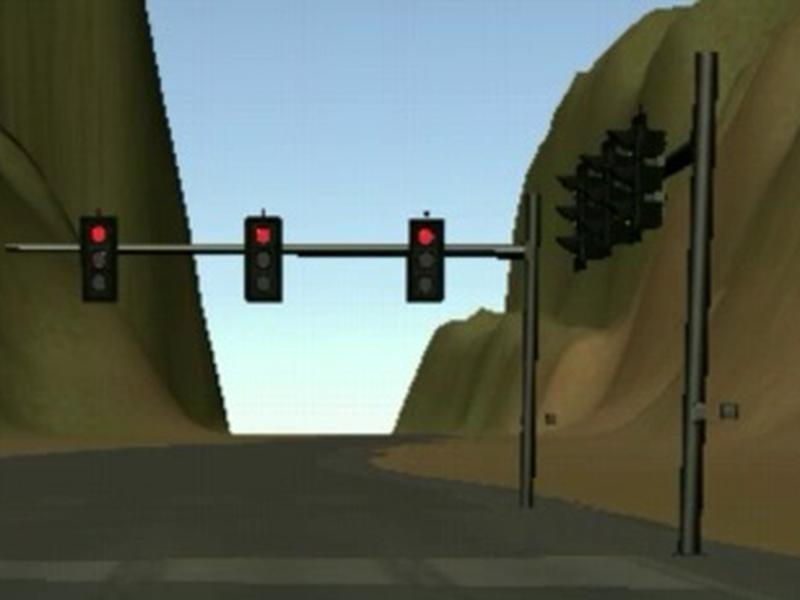Red: (243, 216, 283, 302), (408, 219, 445, 303), (80, 216, 116, 302)
